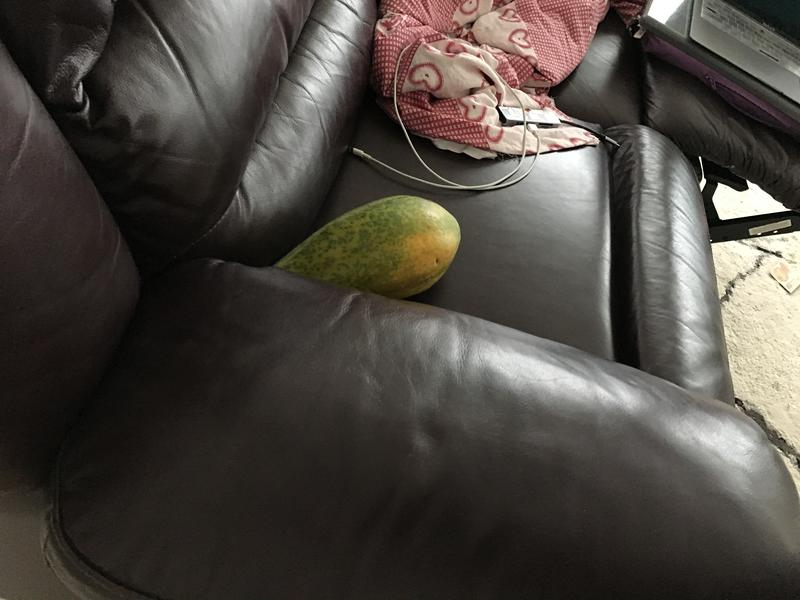papaya: (257, 185, 470, 305)
